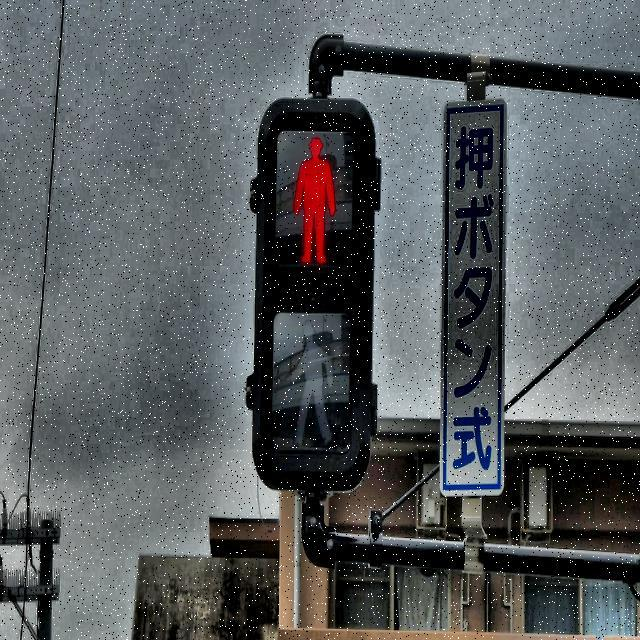red_light: (291, 131, 337, 268)
